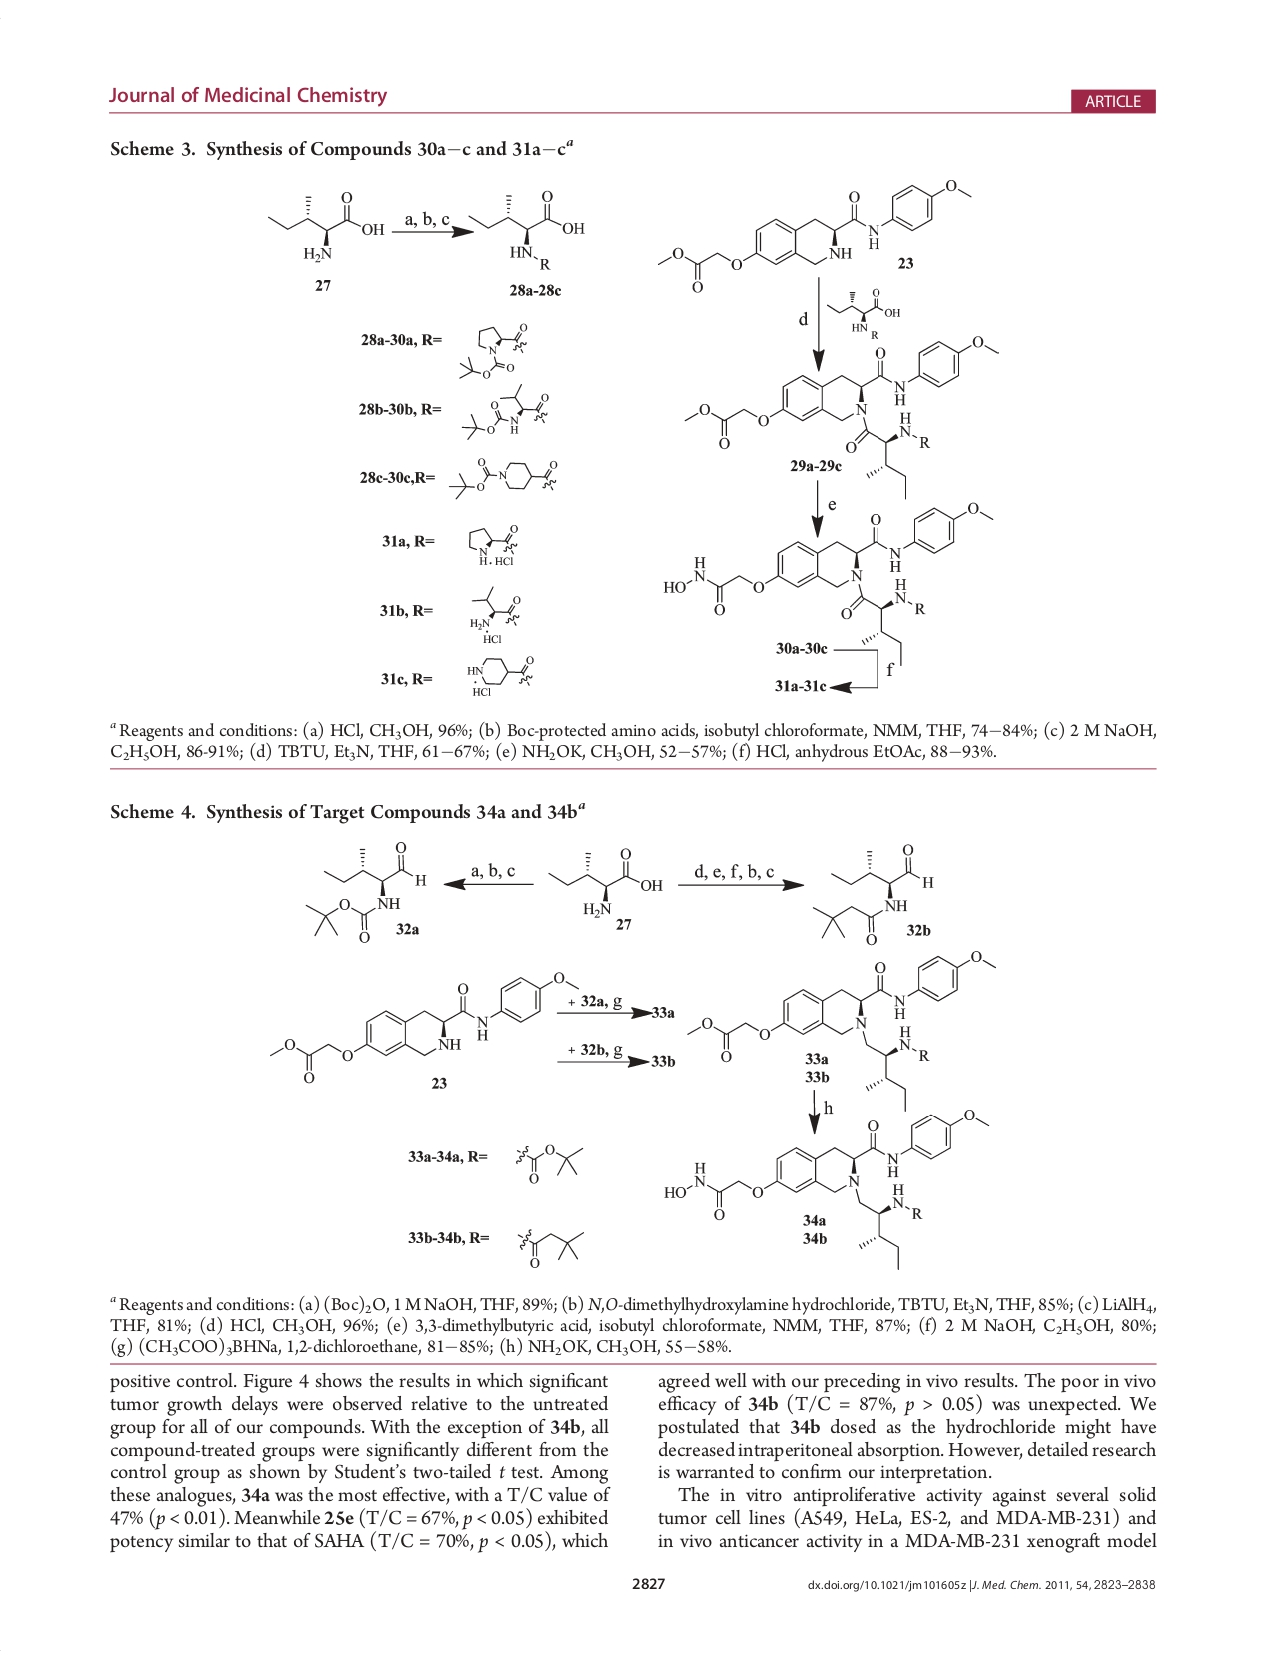exist_molecular: (662, 501, 996, 668), (661, 1108, 993, 1271), (682, 335, 1000, 501), (684, 948, 996, 1113), (657, 178, 973, 297), (266, 969, 580, 1087), (305, 840, 430, 944), (810, 842, 934, 946), (465, 188, 588, 274), (547, 844, 666, 919), (267, 190, 388, 263), (460, 380, 553, 443), (445, 453, 561, 501), (505, 1132, 586, 1186), (457, 321, 531, 380), (511, 1222, 589, 1271), (465, 581, 523, 648), (824, 286, 902, 332), (465, 654, 539, 702), (461, 515, 523, 572)
